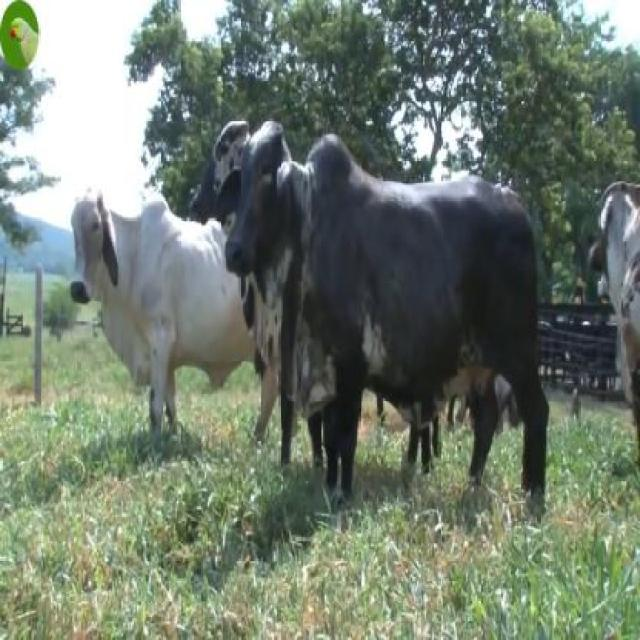Cow: (223, 121, 546, 514), (66, 192, 208, 443)
